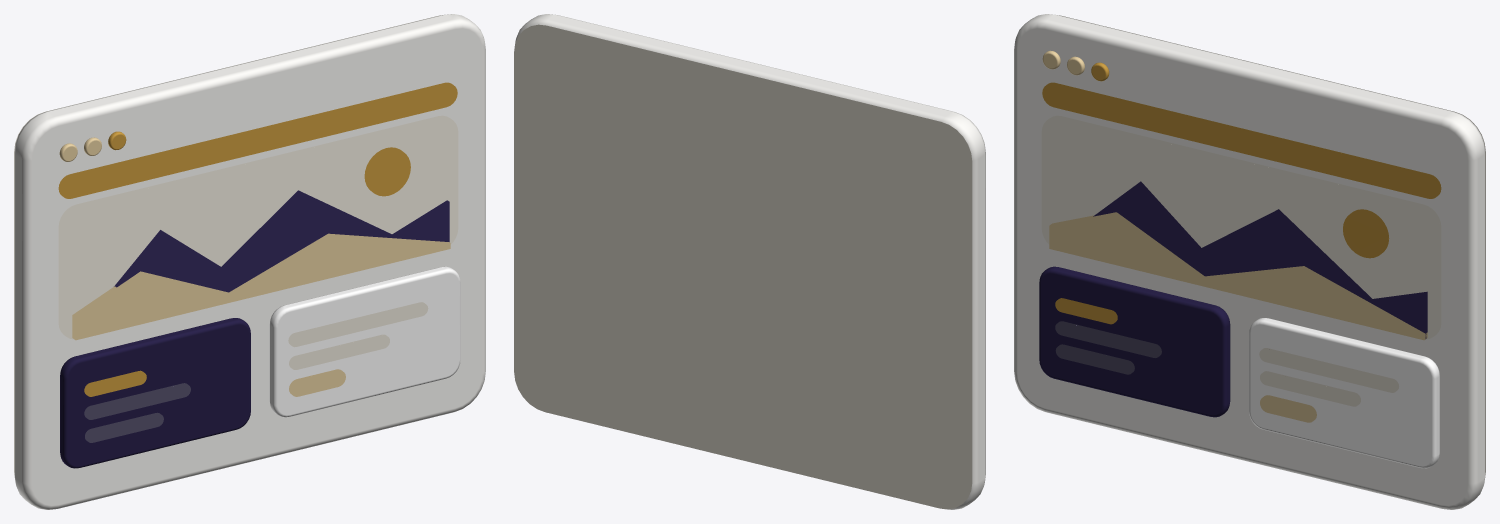
File: hero_board.glb
3 views of the same model, side by side, from view 1: azimuth 30°, elevation 25°; view 2: azimuth 150°, elevation 25°; view 3: azimuth 330°, elevation 25° (orthographic).
Visible parts, largest first — view 1: hero_board; view 2: hero_board; view 3: hero_board.
Boxes of the visible parts, bbox=[...] form: hero_board: bbox=[14, 14, 485, 509]; hero_board: bbox=[514, 14, 985, 509]; hero_board: bbox=[1014, 14, 1485, 509].
Size of the model in its own units: 4.2 by 3.4 by 0.36.
